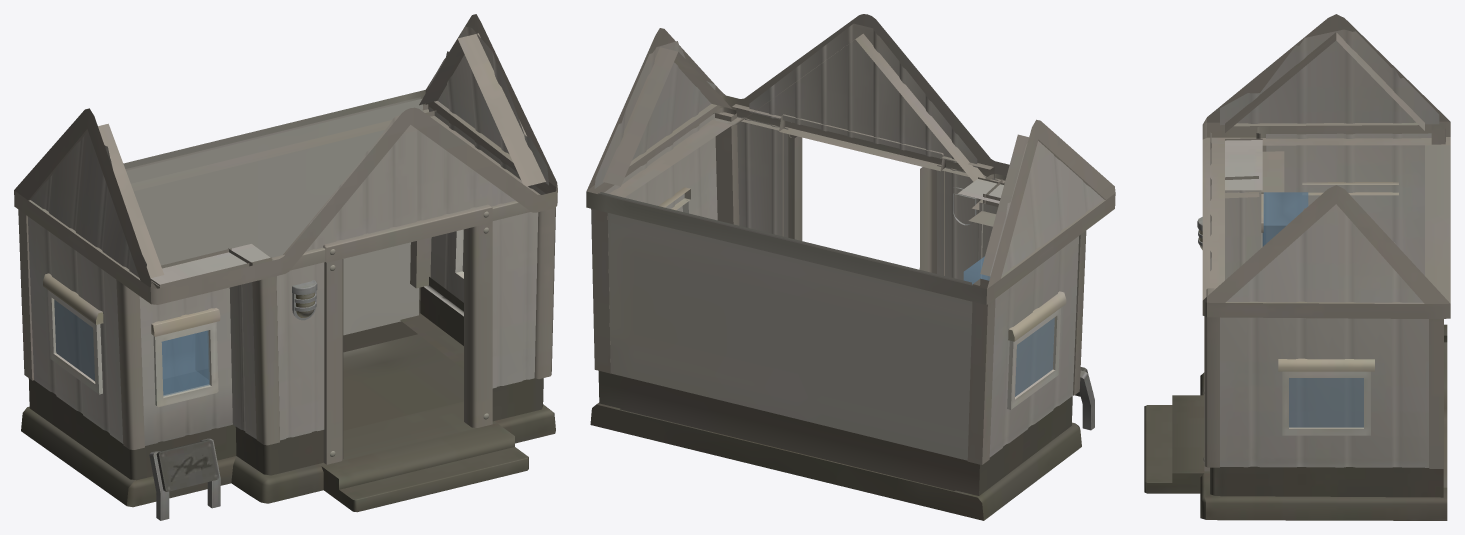
Rendered from wall-na-metal.glb.
The picture shows the model from 3 angles, left to right: view 1: azimuth 30°, elevation 25°; view 2: azimuth 150°, elevation 25°; view 3: azimuth 270°, elevation 25°; orthographic projection. The views are drawn at different scales.
Size of the model in its own units: 38.46 by 32.59 by 27.3.
Materials: 7 (3 with a texture image).
